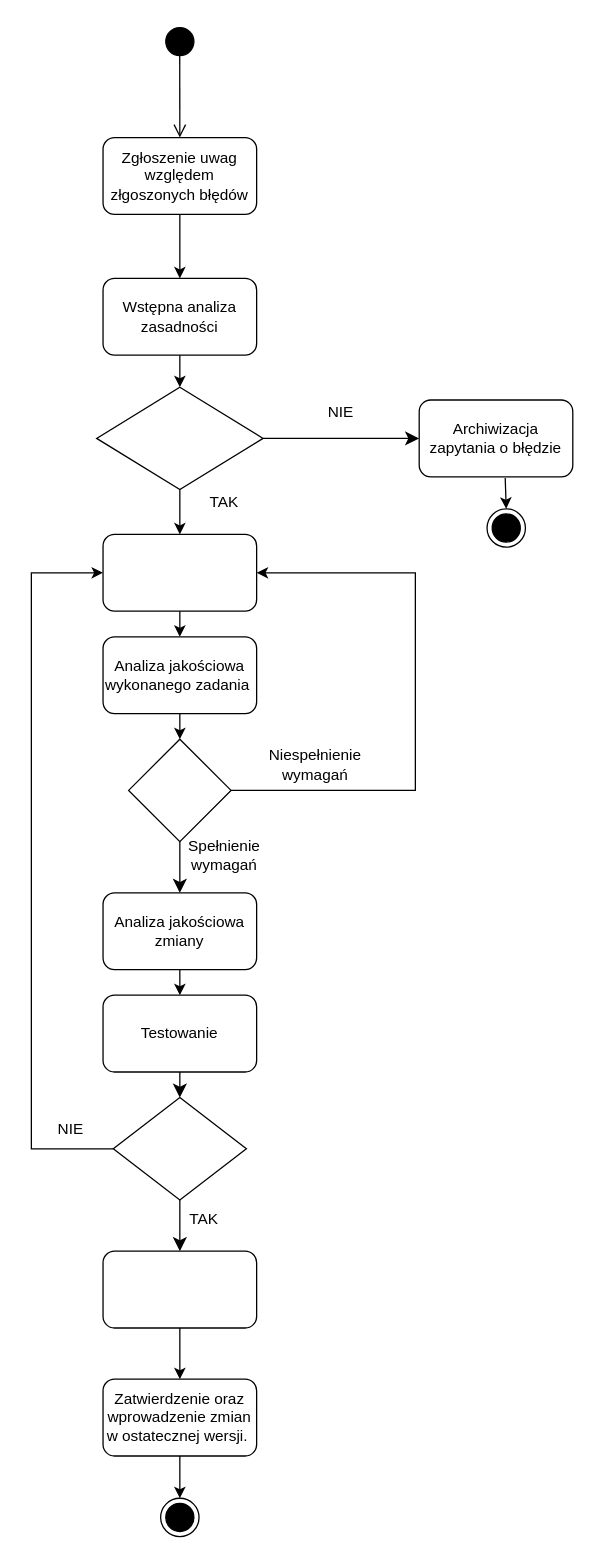
Image size: 595x1559. Some labels were removed from this diagram. The centre of each missing label's shape, as x and y in pixels:
Archiwizacja danych dotyczących konfiguracji nowej wersji: the point at 179,1289
Wprowadzenie zmian w kodzie źródłowym aplikacji: the point at 179,572
Zatwierdzenie zmian: the point at 179,1148
